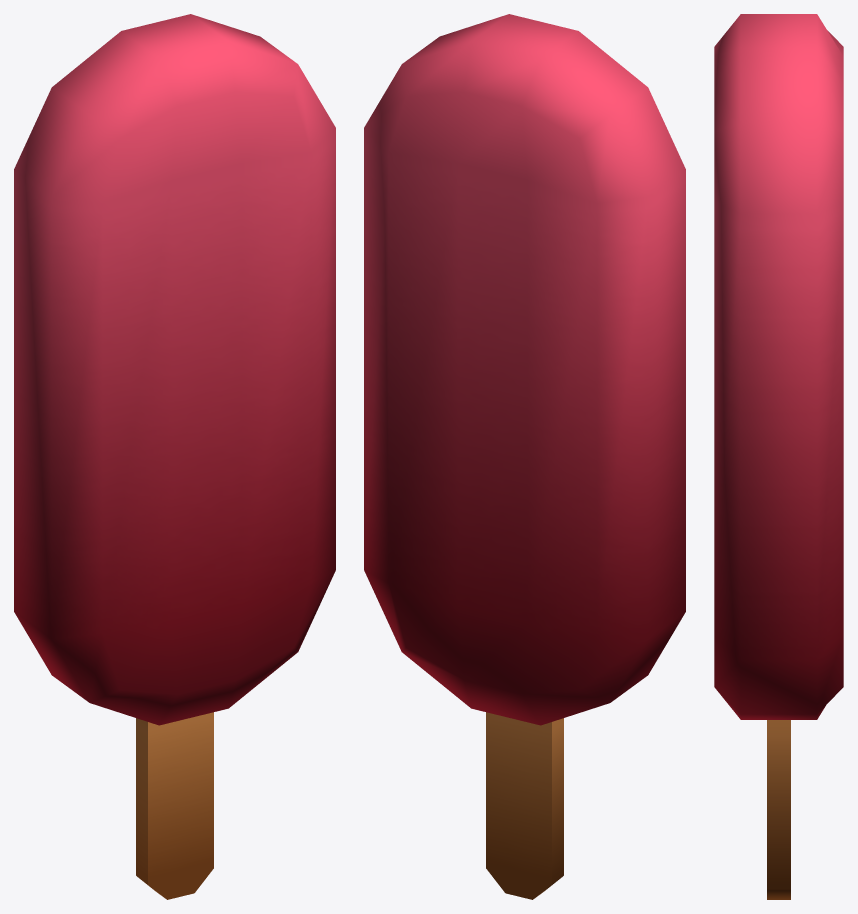
File: m_Popsicle07.fbx
3 views of the same model, side by side, from view 1: azimuth 30°, elevation 25°; view 2: azimuth 150°, elevation 25°; view 3: azimuth 270°, elevation 25° (orthographic).
Visible parts, largest first — view 1: m_Popsicle07; view 2: m_Popsicle07; view 3: m_Popsicle07.
Part boxes in pixels (box(x1,y1,x2,y2)): m_Popsicle07: box(14, 14, 335, 899); m_Popsicle07: box(364, 14, 685, 899); m_Popsicle07: box(714, 14, 843, 899).
Size of the model in its own units: 7.98 by 22.99 by 3.12.
